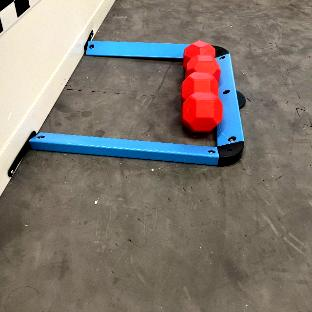Parking - Part: (29, 41, 244, 163)
V5_RED: (181, 41, 222, 132)
